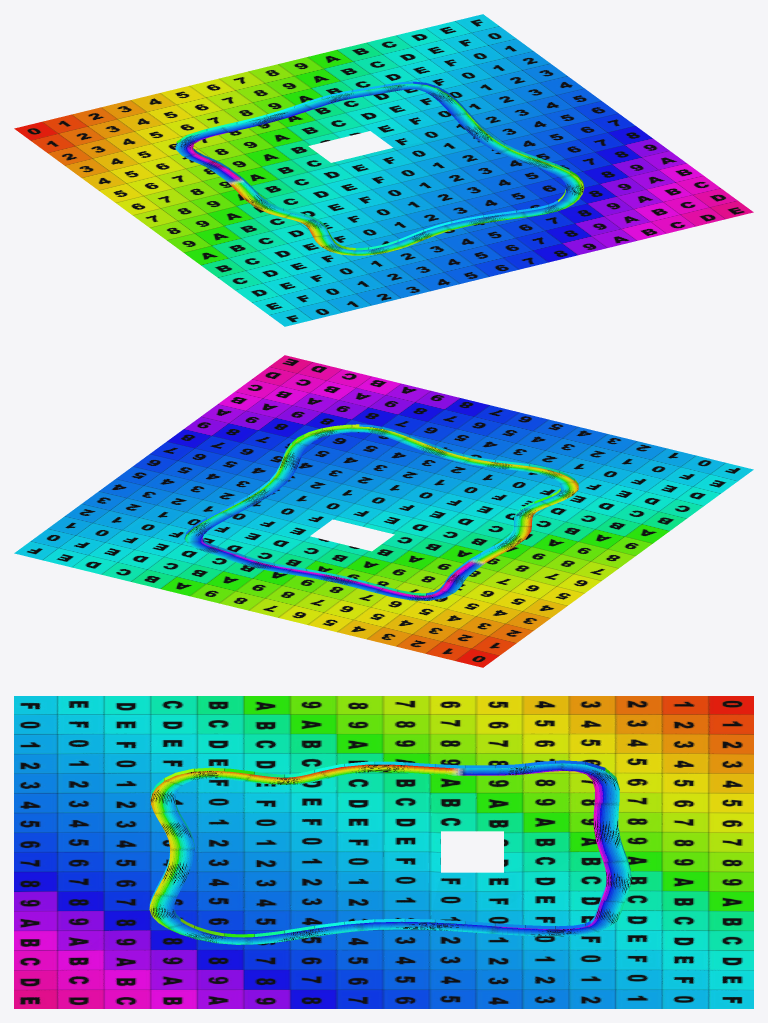
The model's file is Rio.fbx.
The picture shows the model from 3 angles, top to bottom: view 1: azimuth 30°, elevation 25°; view 2: azimuth 150°, elevation 25°; view 3: azimuth 270°, elevation 25°; orthographic projection. The views are drawn at different scales.
Visible parts, largest first — view 1: Terreno, Rio; view 2: Terreno, Rio; view 3: Terreno, Rio.
Boxes of the visible parts, <box> form: Terreno: <box>14,14,753,326</box>; Rio: <box>175,83,583,255</box>; Terreno: <box>14,355,753,667</box>; Rio: <box>185,426,578,600</box>; Terreno: <box>14,696,753,1008</box>; Rio: <box>149,763,631,944</box>.
Size of the model in its own units: 118 by 118 by 3.38.
